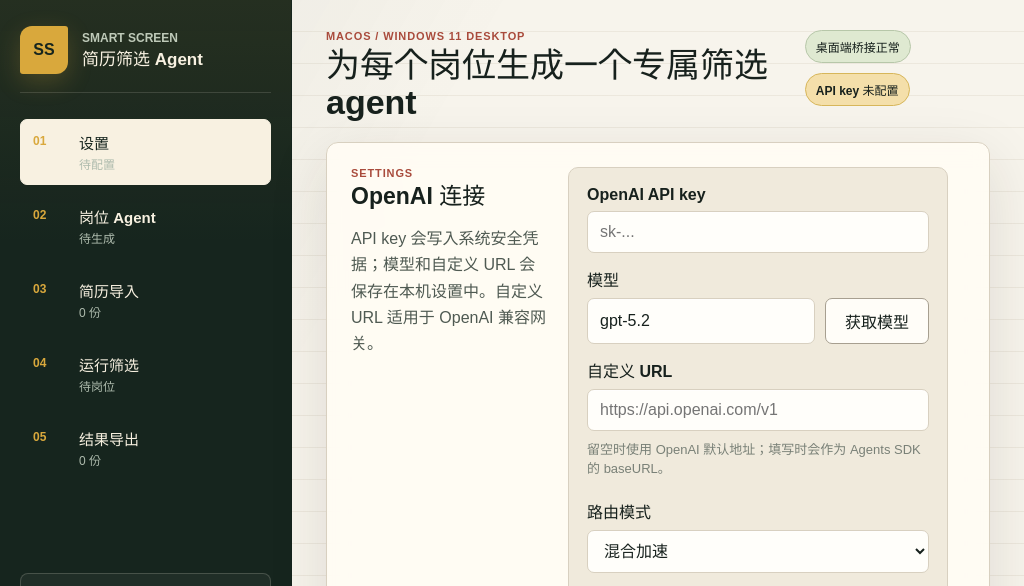
Scenario: App smoke flow › imports selected desktop resume files and runs screening without sample data
Expected: the text "桌面端桥接正常" is shown, [805, 30, 911, 63]
Click the button "02 岗位 Agent 待生成". click: coordinates (146, 226)
box: [20, 193, 271, 259]
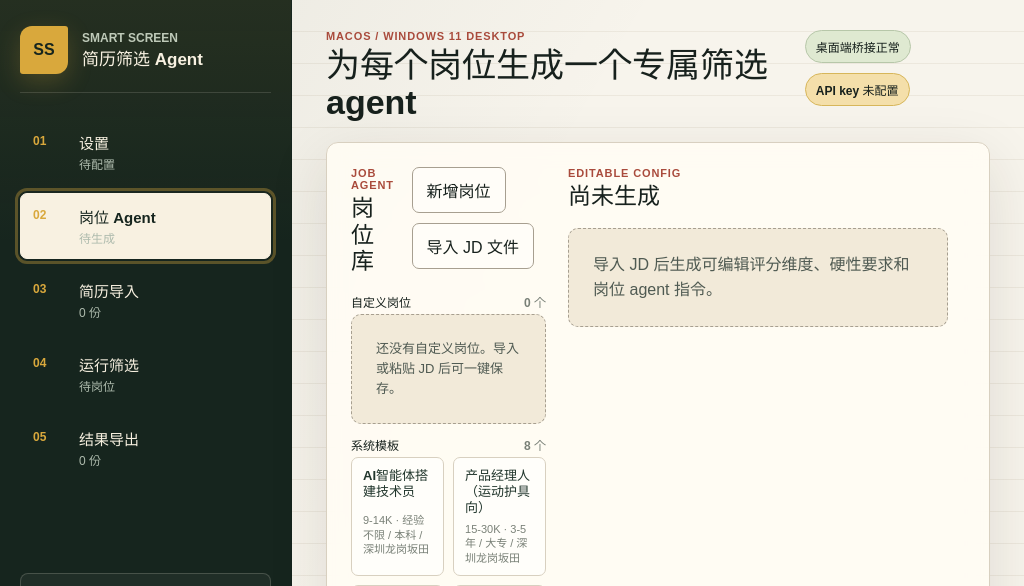
Click the button with aria-label "编辑 AI智能体搭建技术员". click: coordinates (398, 517)
box: [351, 457, 444, 576]
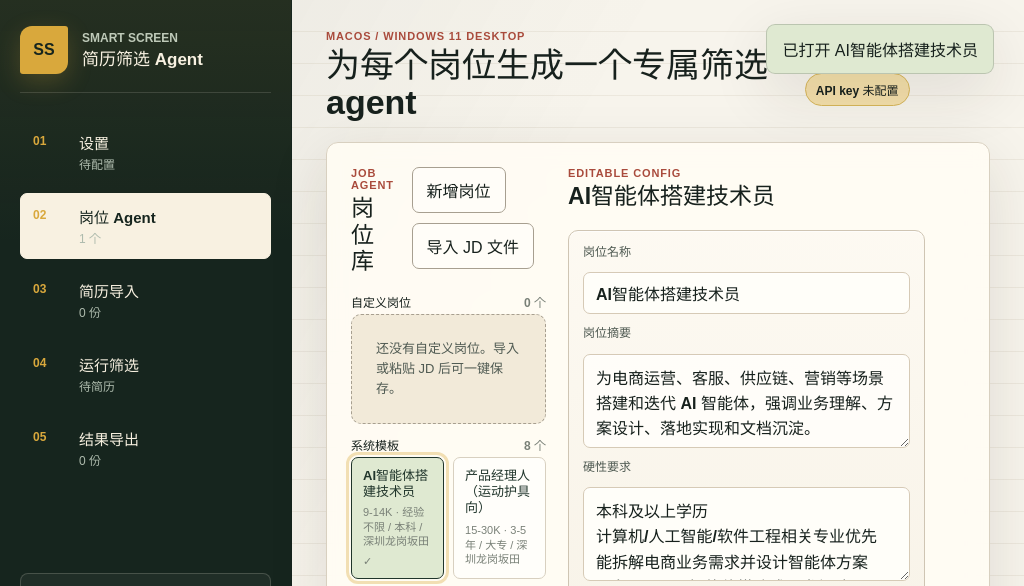
Click the button "03 简历导入 0 份". click: coordinates (146, 300)
box: [20, 267, 271, 333]
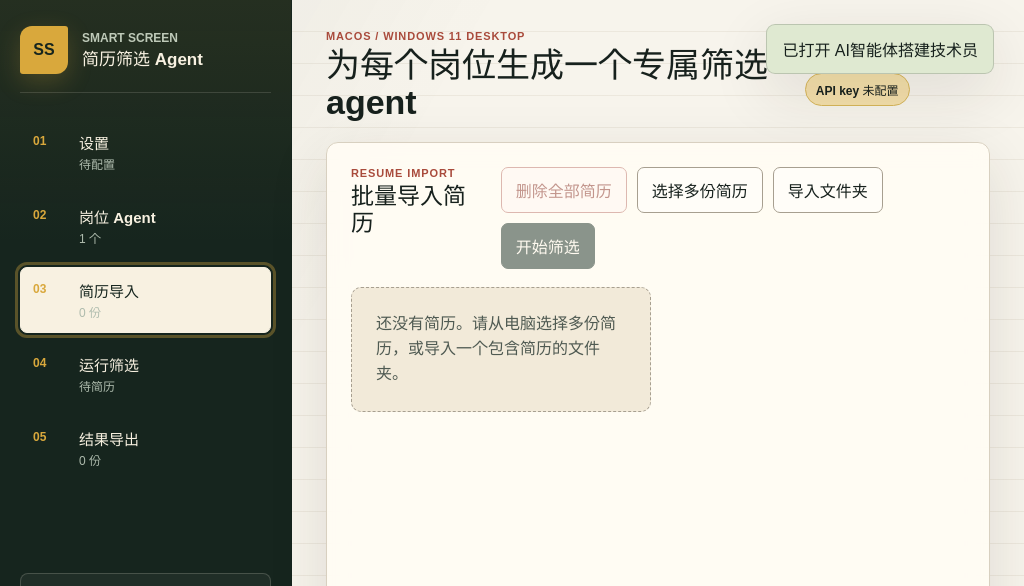
Click the button "选择多份简历". click: coordinates (700, 190)
box: [637, 167, 763, 213]
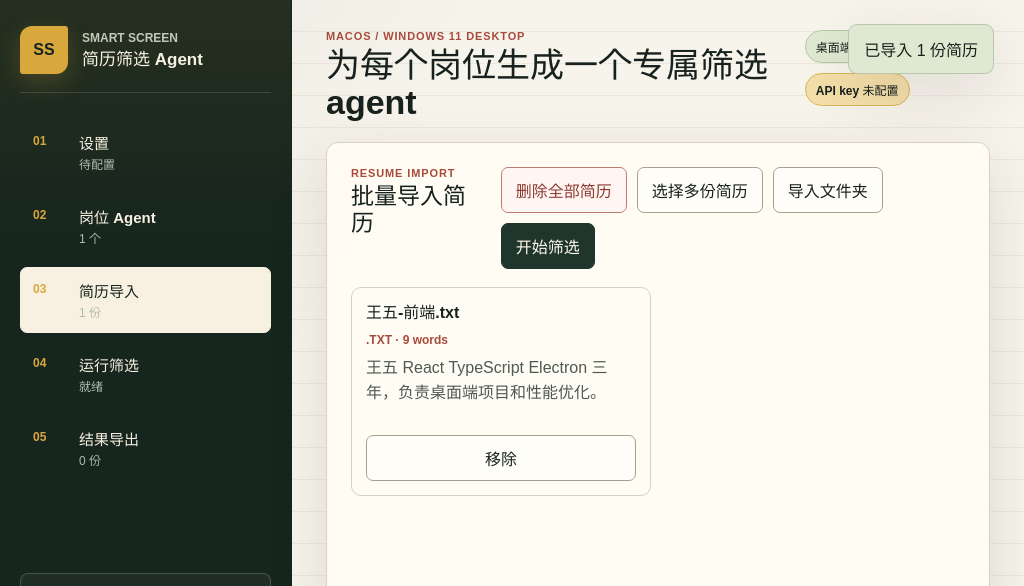
Expected: the text "王五-前端.txt" is shown, [366, 304, 459, 321]
Click the button "开始筛选". click: coordinates (548, 246)
box: [501, 223, 595, 269]
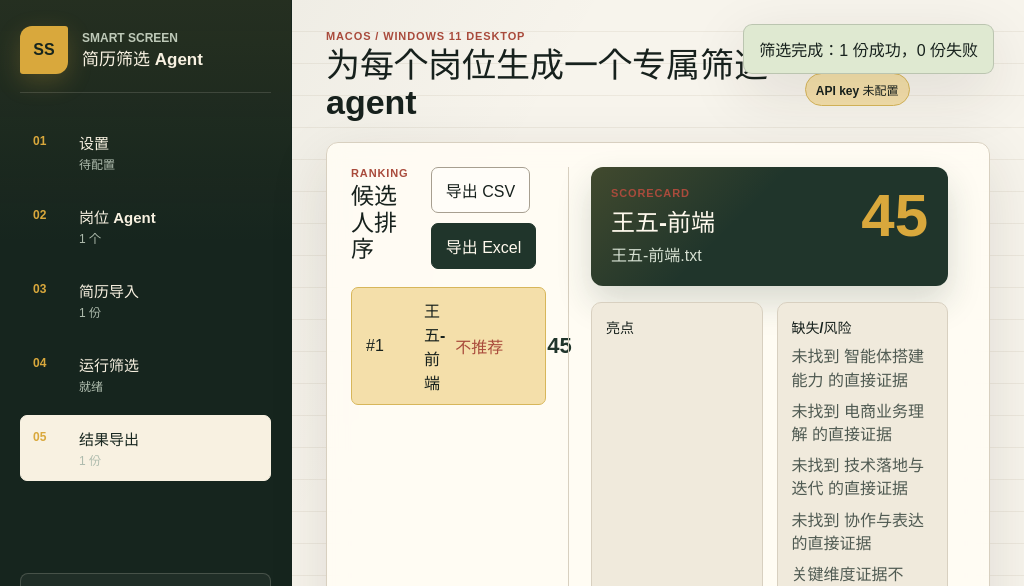
Expected: the heading "候选人排序" is shown, [351, 183, 397, 262]
Expected: the text "王五-前端" is shown, [424, 298, 445, 394]
